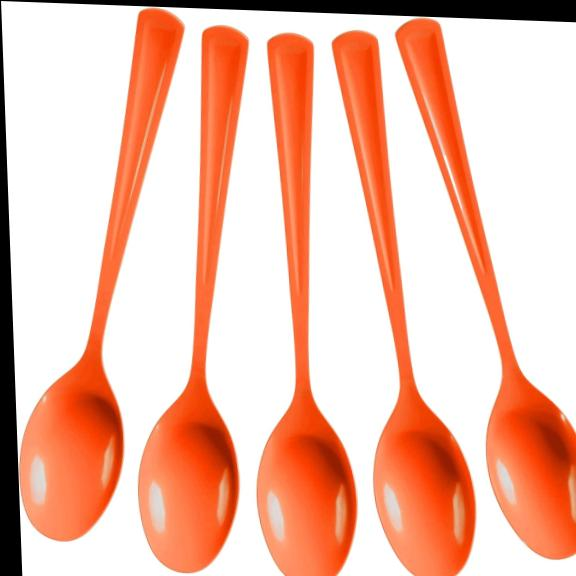Plastik: (396, 18, 575, 558), (19, 8, 183, 540), (332, 31, 474, 575), (138, 26, 247, 571), (257, 33, 356, 575)
